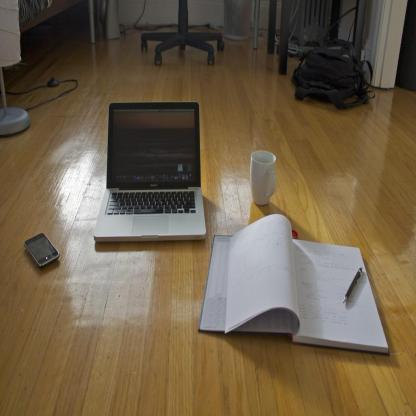board: (94, 89, 207, 251)
